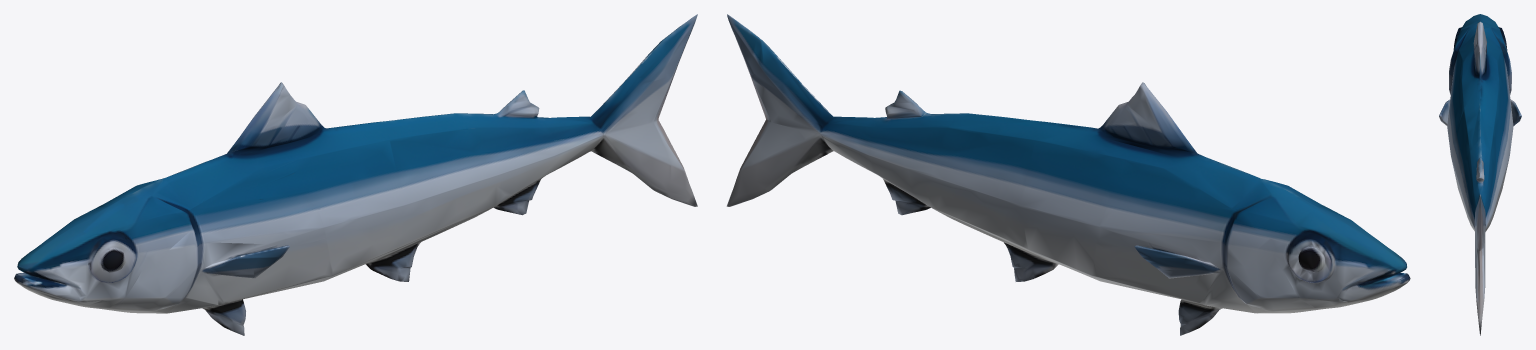
File: sardine.glb
3 views of the same model, side by side, from view 1: azimuth 30°, elevation 25°; view 2: azimuth 150°, elevation 25°; view 3: azimuth 270°, elevation 25° (orthographic). The views are drawn at different scales.
Visible parts, largest first — view 1: material; view 2: material; view 3: material.
Boxes of the visible parts, bbox=[...] form: material: bbox=[14, 14, 697, 335]; material: bbox=[726, 14, 1410, 335]; material: bbox=[1439, 14, 1521, 335].
Bounding box in the file's own units: 1.15 × 0.3943 × 0.1656.
1 material, 1 textured.
